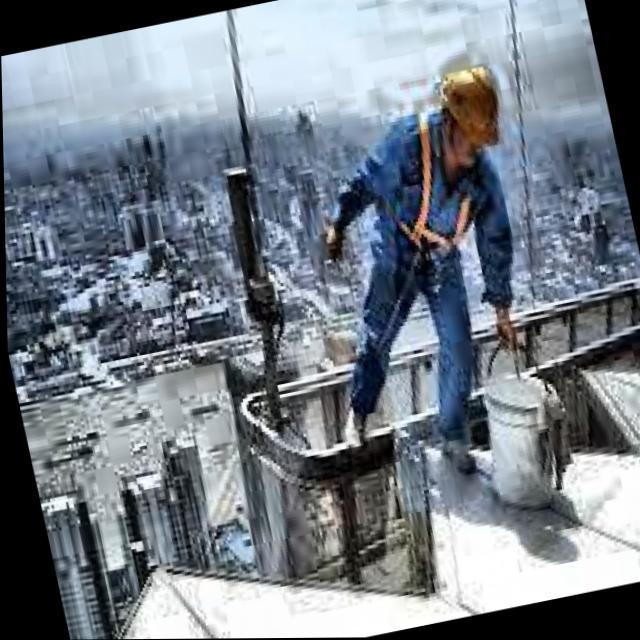belt: (373, 104, 482, 266)
